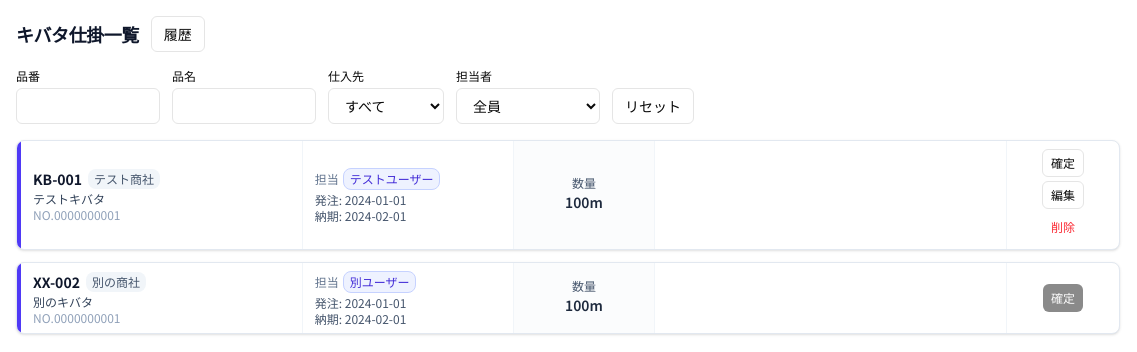
Test: GrayFabricOrderTable フィルター › 仕入先で絞り込める
The image size is (1137, 352).
Select "別の商社" in the dropdown labelled "仕入先" at (386, 106), box x1=328 y1=88 x2=444 y2=124
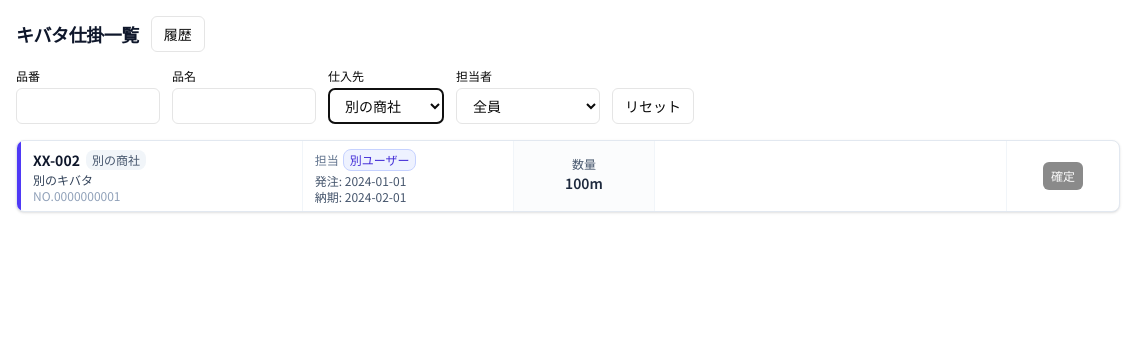
Expected: the text "XX-002" is shown, x1=33 y1=153 x2=80 y2=167
Expected: the text "KB-001" is gone
